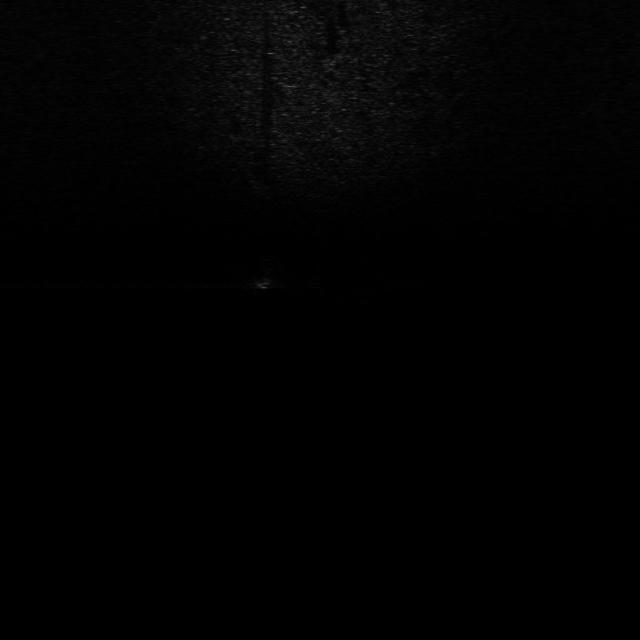human body: (248, 250, 284, 296)
